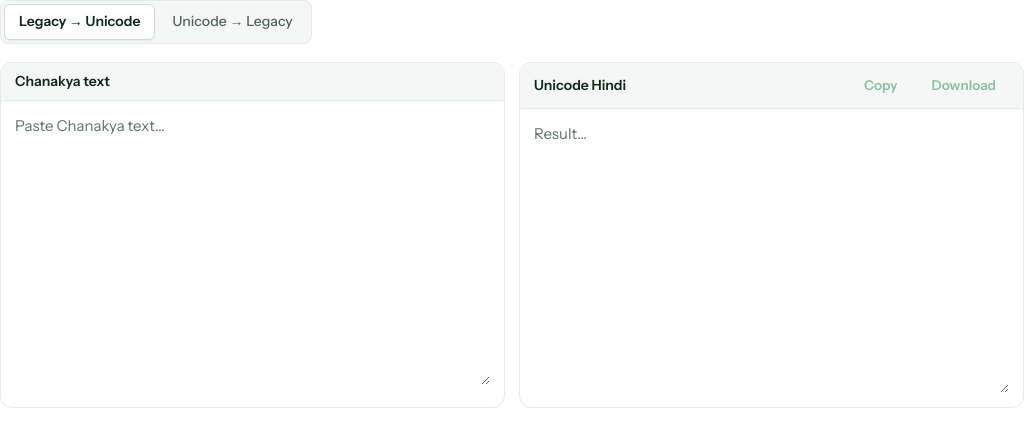
it: LegacyFontConverter › converts Chanakya to Unicode
The width and height of the screenshot is (1024, 425).
Type "ÖæÚUÌ" into the text box with placeholder "Paste Chanakya text…". click: (252, 250)
box: [15,115,490,385]
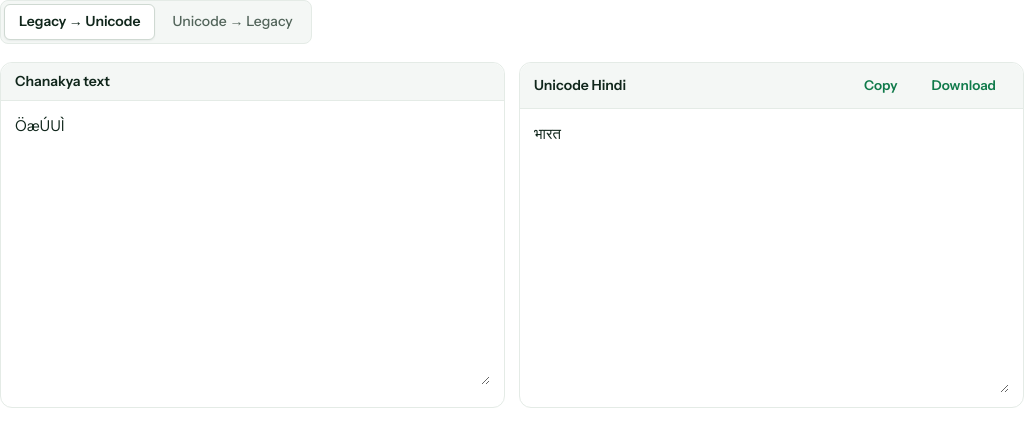
Now the text box with placeholder "Result…" below "Unicode Hindi" holds "भारत", box [534,123,1009,393]
